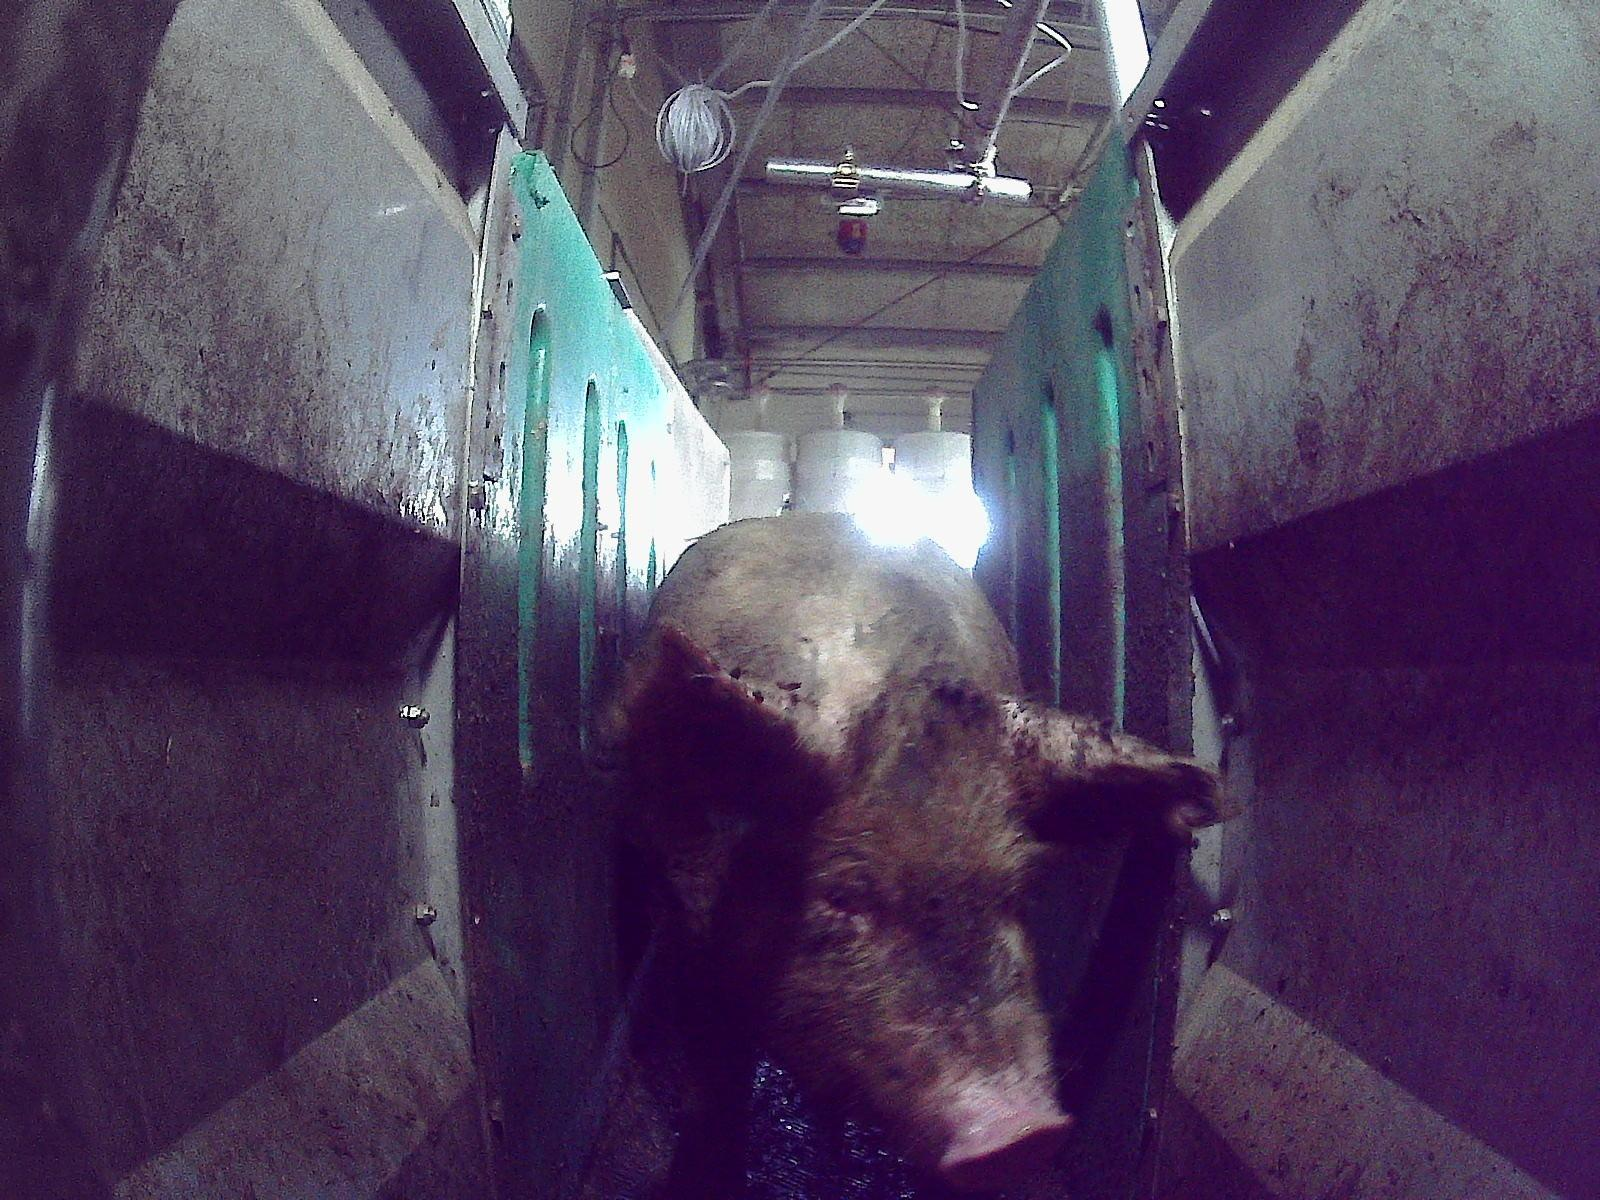Face: (726, 698, 1076, 1188)
